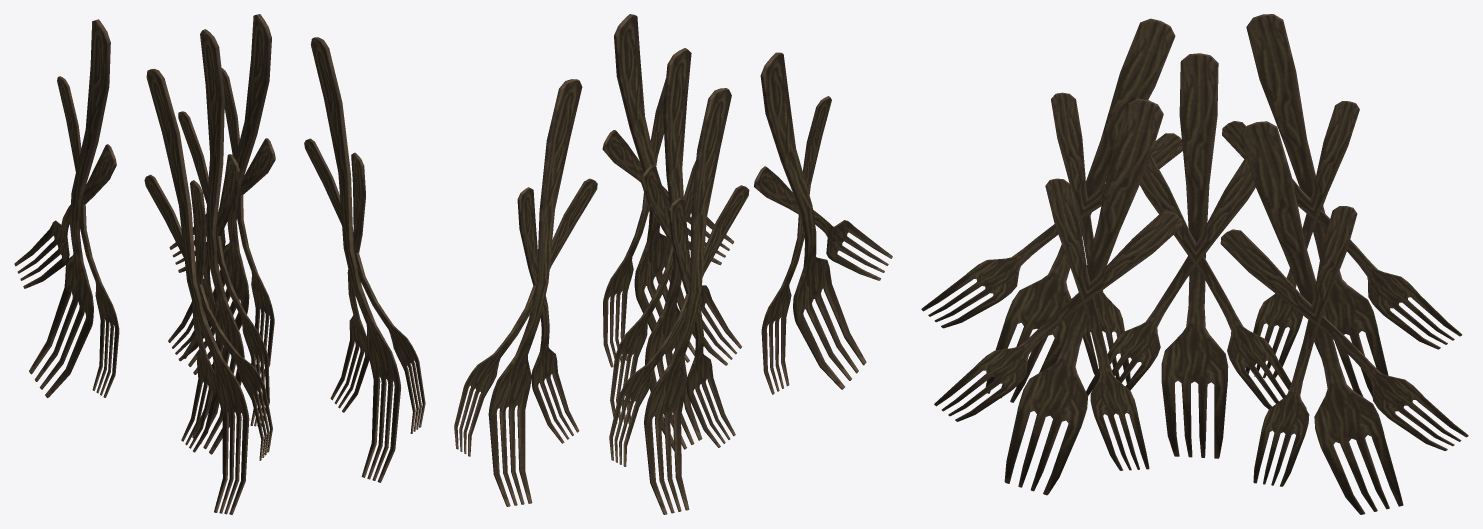
Rendered from ForkEl.fbx.
3 views of the same model, side by side, from view 1: azimuth 30°, elevation 25°; view 2: azimuth 150°, elevation 25°; view 3: azimuth 270°, elevation 25° (orthographic). The views are drawn at different scales.
Visible parts, largest first — view 1: Fork.004; view 2: Fork.004; view 3: Fork.004.
Part boxes in pixels (x1,y1,x2,y2): Fork.004: (14, 14, 425, 514); Fork.004: (454, 14, 892, 514); Fork.004: (921, 14, 1468, 514).
Size of the model in its own units: 1378 by 568 by 1192.
